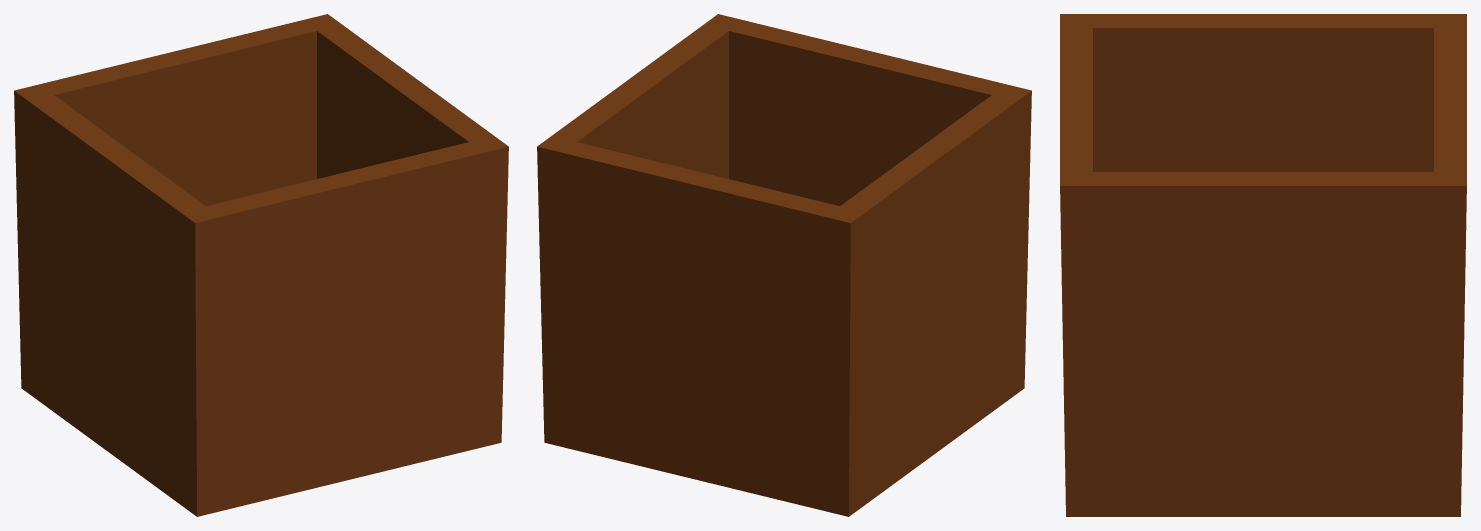
File: Harvest Bin.fbx
3 views of the same model, side by side, from view 1: azimuth 30°, elevation 25°; view 2: azimuth 150°, elevation 25°; view 3: azimuth 270°, elevation 25° (orthographic). The views are drawn at different scales.
Visible parts, largest first — view 1: Cube; view 2: Cube; view 3: Cube.
Part boxes in pixels (x1,y1,x2,y2): Cube: (14, 14, 508, 516); Cube: (537, 14, 1031, 516); Cube: (1060, 14, 1466, 516).
Bounding box in the file's own units: 534 × 483 × 534.
